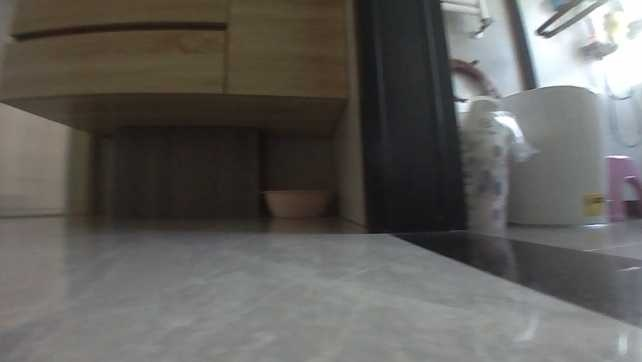toilet: (499, 80, 610, 226)
washstand: (1, 0, 350, 139)
